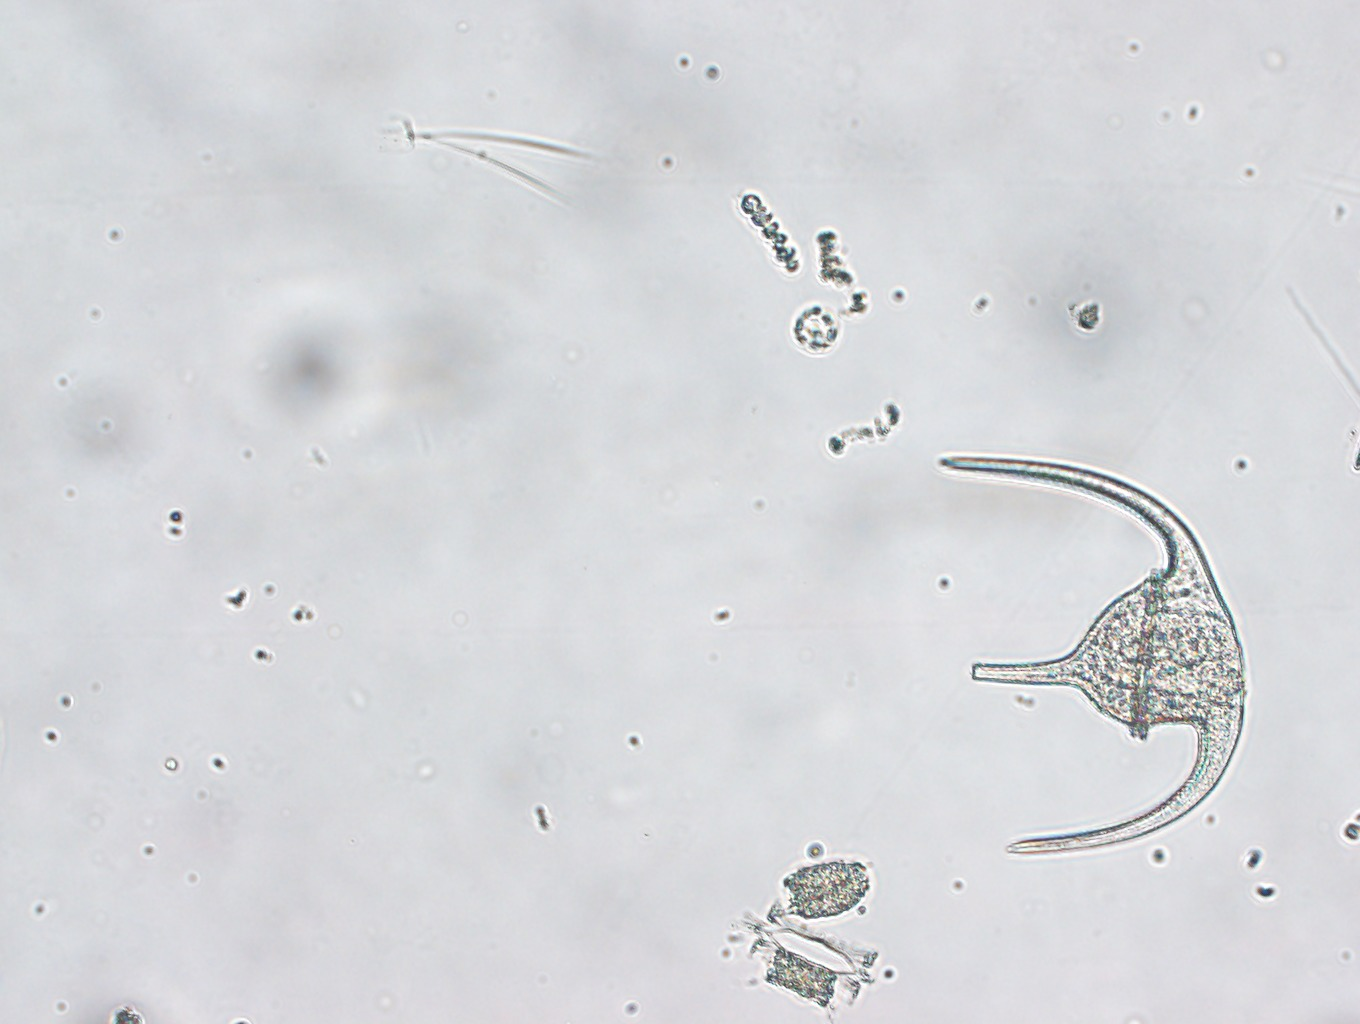ceratium tripos: (926, 445, 1252, 858)
